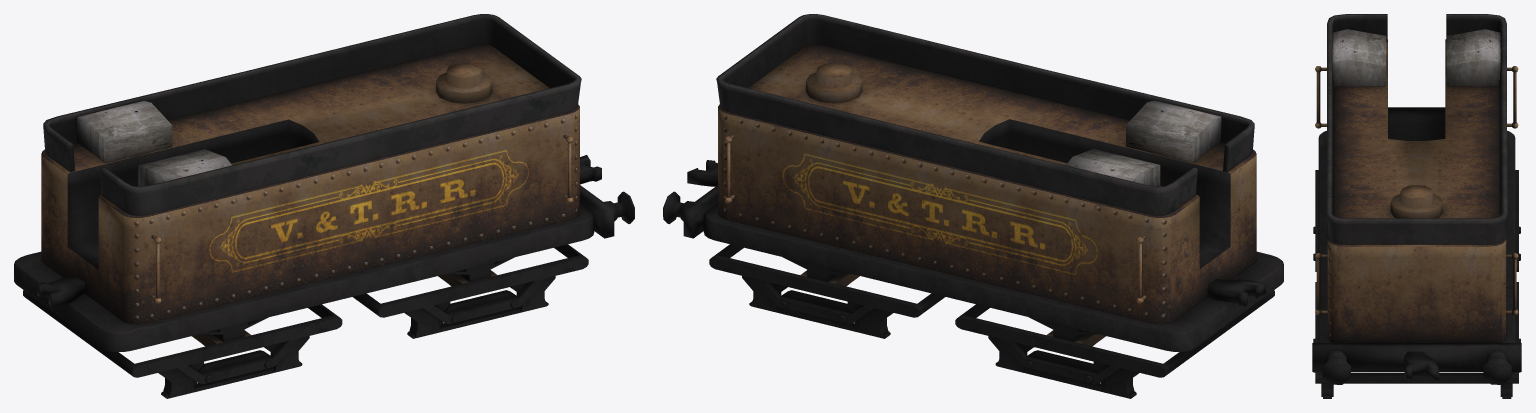
Rendered from Vagon.obj.
3 renders of one model, left to right at view 1: azimuth 30°, elevation 25°; view 2: azimuth 150°, elevation 25°; view 3: azimuth 270°, elevation 25°, orthographic. The views are drawn at different scales.
Parts seen in each view (by area): view 1: Cylinder_0_vagon; view 2: Cylinder_0_vagon; view 3: Cylinder_0_vagon.
Part boxes in pixels (x1,y1,x2,y2): Cylinder_0_vagon: [14, 14, 634, 398]; Cylinder_0_vagon: [663, 14, 1283, 398]; Cylinder_0_vagon: [1312, 14, 1521, 398].
Bounding box in the file's own units: 28.57 × 10.53 × 9.99.
